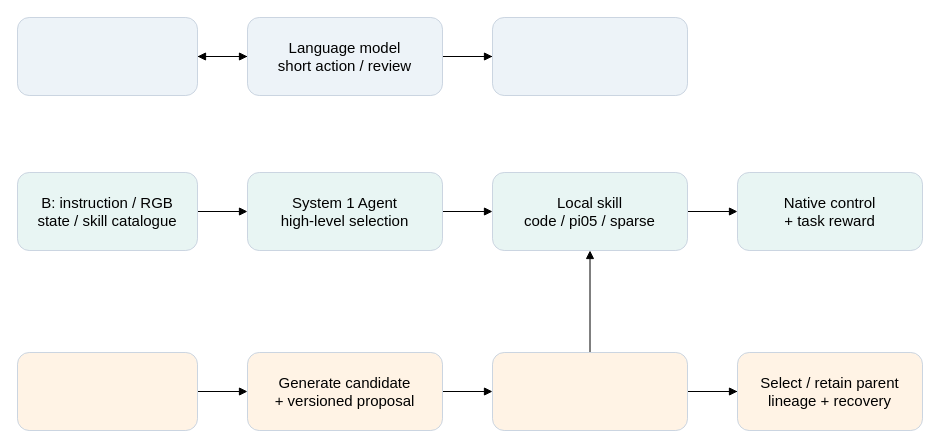
Image size: 940x448. Some labels were removed from this diagram. The shapes that lost their labels are listed below. From the top down, each one's centre as x and y in pixels, then its label:
[107,56]: A: observation + persistent context
[590,56]: Native execution new observation
[107,391]: System 2 development evidence
[590,391]: Paired validation parent vs candidate
